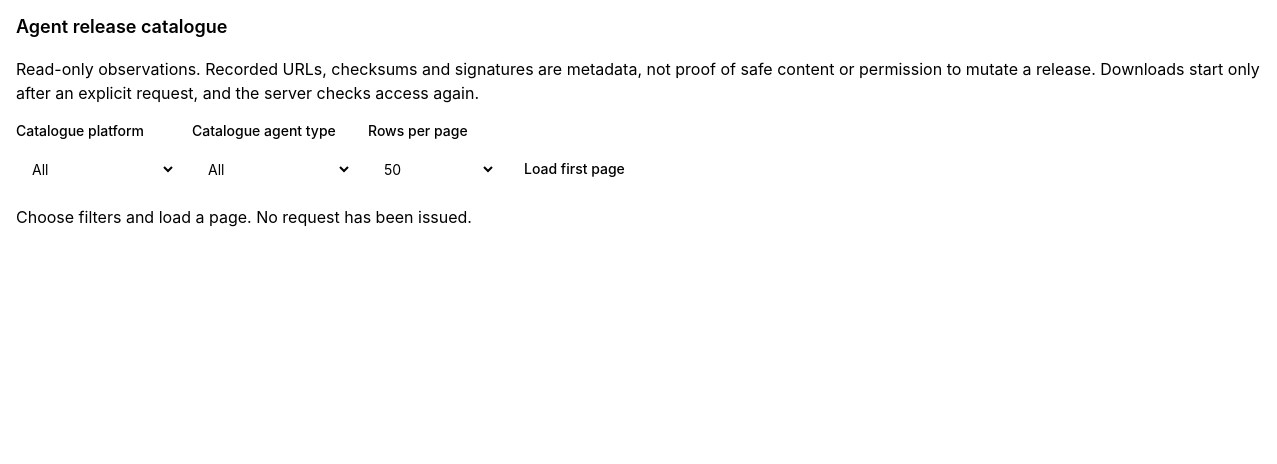
it: uses complete en labels and renders an empty validated page
This screenshot has width=1277, height=464.
Expected: the heading "Agent release catalogue" is shown, [16, 16, 227, 37]
Click the button "Load first page": (574, 169) [512, 149, 637, 189]
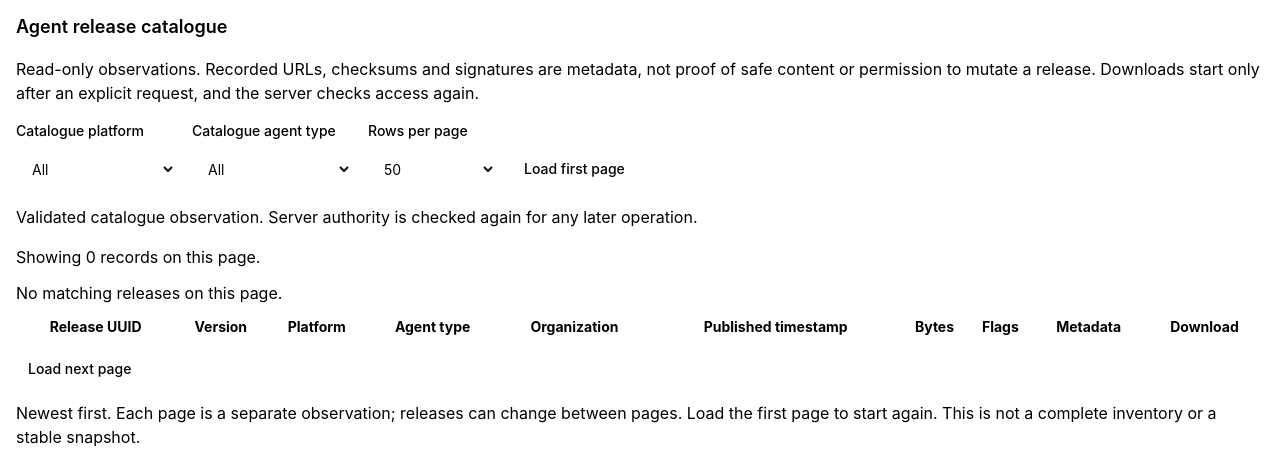
Expected: the text "No matching releases on this page." is shown, [16, 283, 282, 303]
Expected: the button "Load next page" is disabled, [16, 349, 143, 389]
